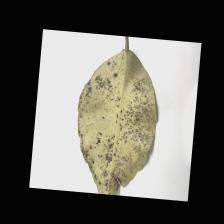canker: (84, 72, 148, 165)
